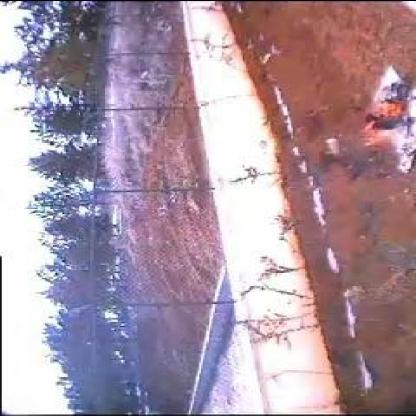foggia-v2-map80-epoch100 - v1 4323: (377, 97, 405, 117)
